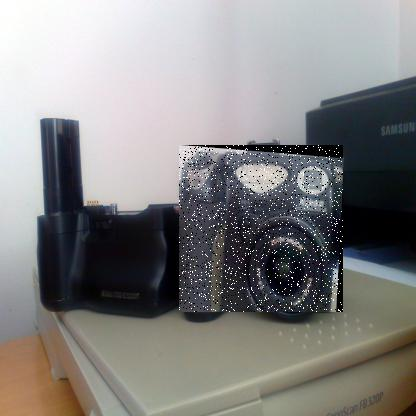Camera: (180, 146, 345, 314)
